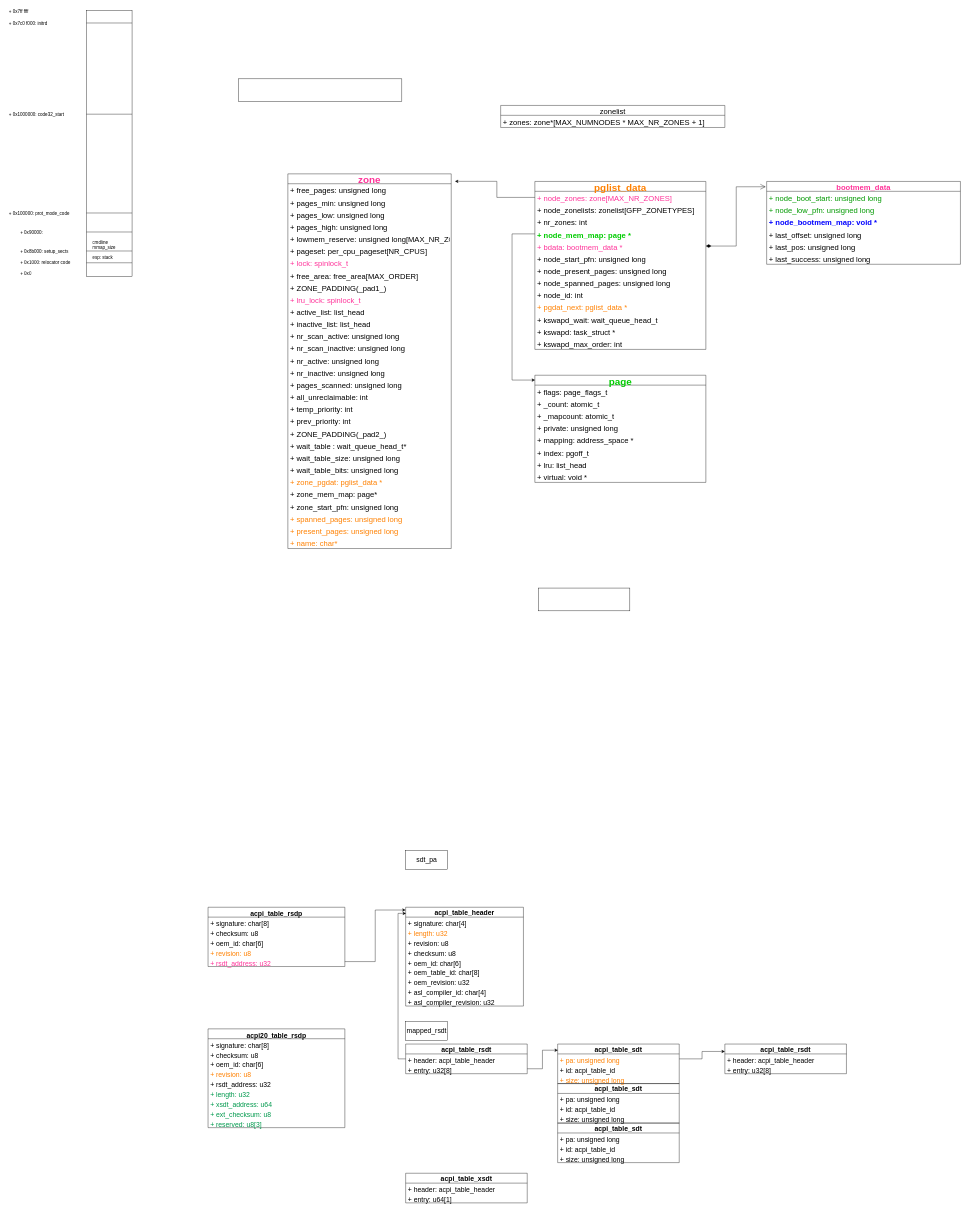
Some shapes in this 967 by 1210 pixel diagram are drawn without their labels. The centre of each missing label's shape, as x and y in pixels:
contig_page_data :pglist_data: point (320, 90)
mem_map :page*: point (584, 599)
